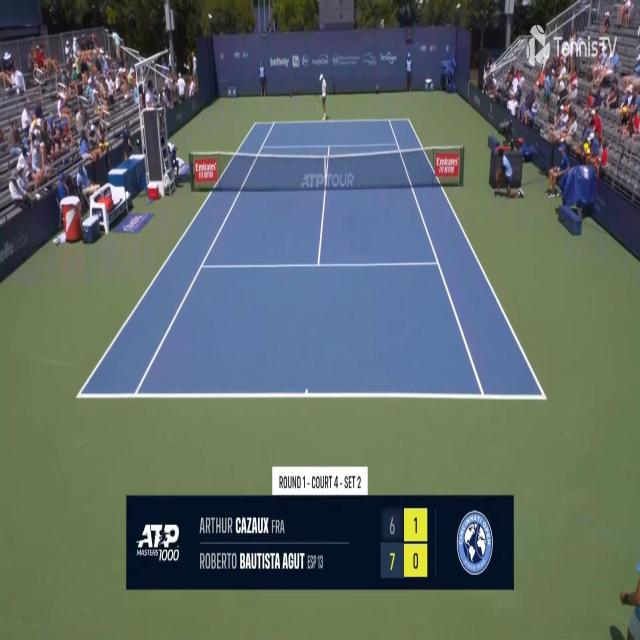tennis-player: (316, 72, 329, 122)
